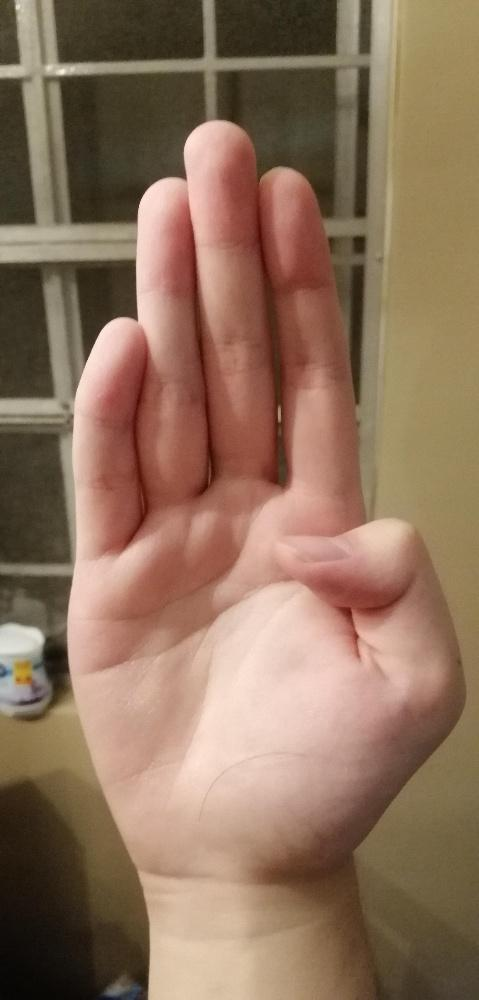b: (64, 118, 469, 876)
